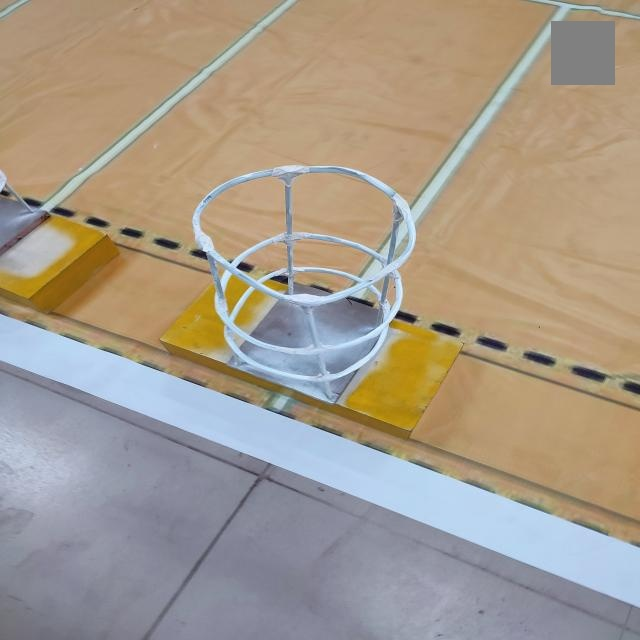silo: (169, 141, 425, 402)
